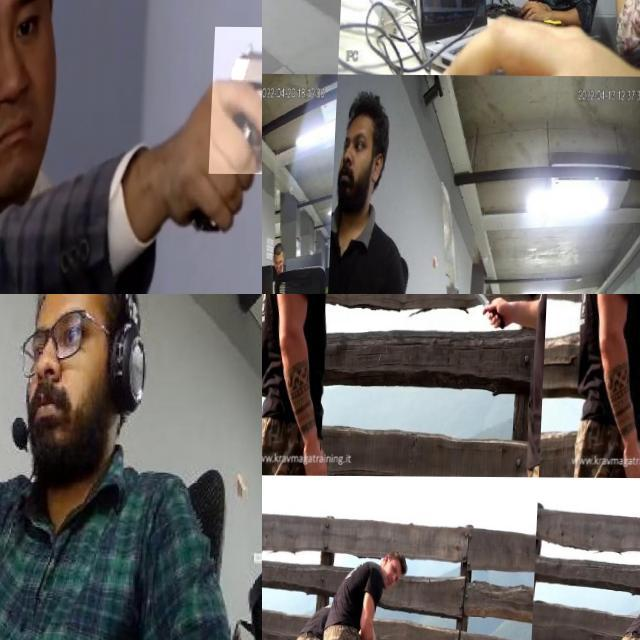-: (0, 324, 35, 640), (434, 176, 469, 294), (459, 294, 513, 342), (262, 0, 318, 24), (597, 0, 616, 39), (262, 250, 274, 294)
gun-knife-thesis - v11 Yolov5 augmented: (212, 26, 262, 173)
